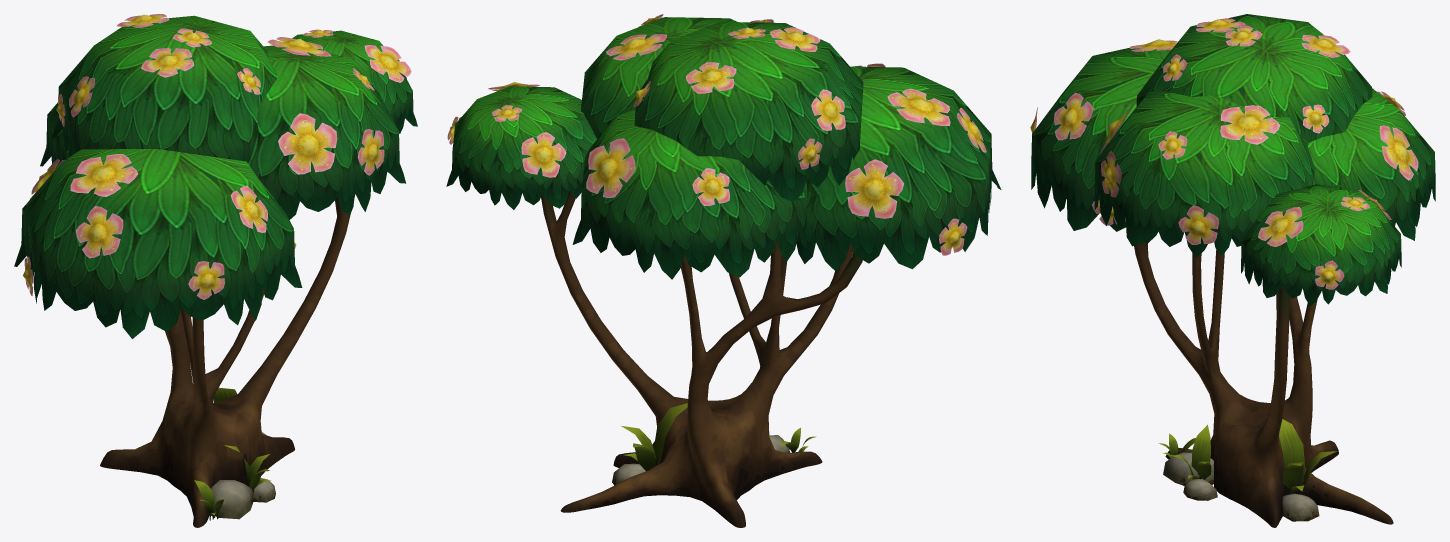
File: tree6.obj
3 renders of one model, left to right at view 1: azimuth 30°, elevation 25°; view 2: azimuth 150°, elevation 25°; view 3: azimuth 270°, elevation 25°, orthographic. The views are drawn at different scales.
Visible parts, largest first — view 1: Tree6_Cylinder001; view 2: Tree6_Cylinder001; view 3: Tree6_Cylinder001.
Part boxes in pixels (x1,y1,x2,y2): Tree6_Cylinder001: (14,14,417,527); Tree6_Cylinder001: (446,14,1001,527); Tree6_Cylinder001: (1030,14,1435,527).
Bounding box in the file's own units: 3.67 × 3.56 × 2.96.
1 material, 1 textured.
